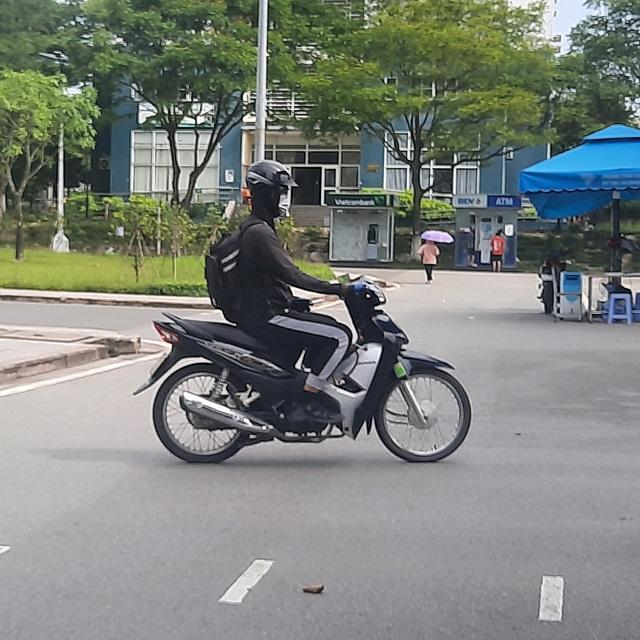Helmet: (246, 161, 298, 223)
